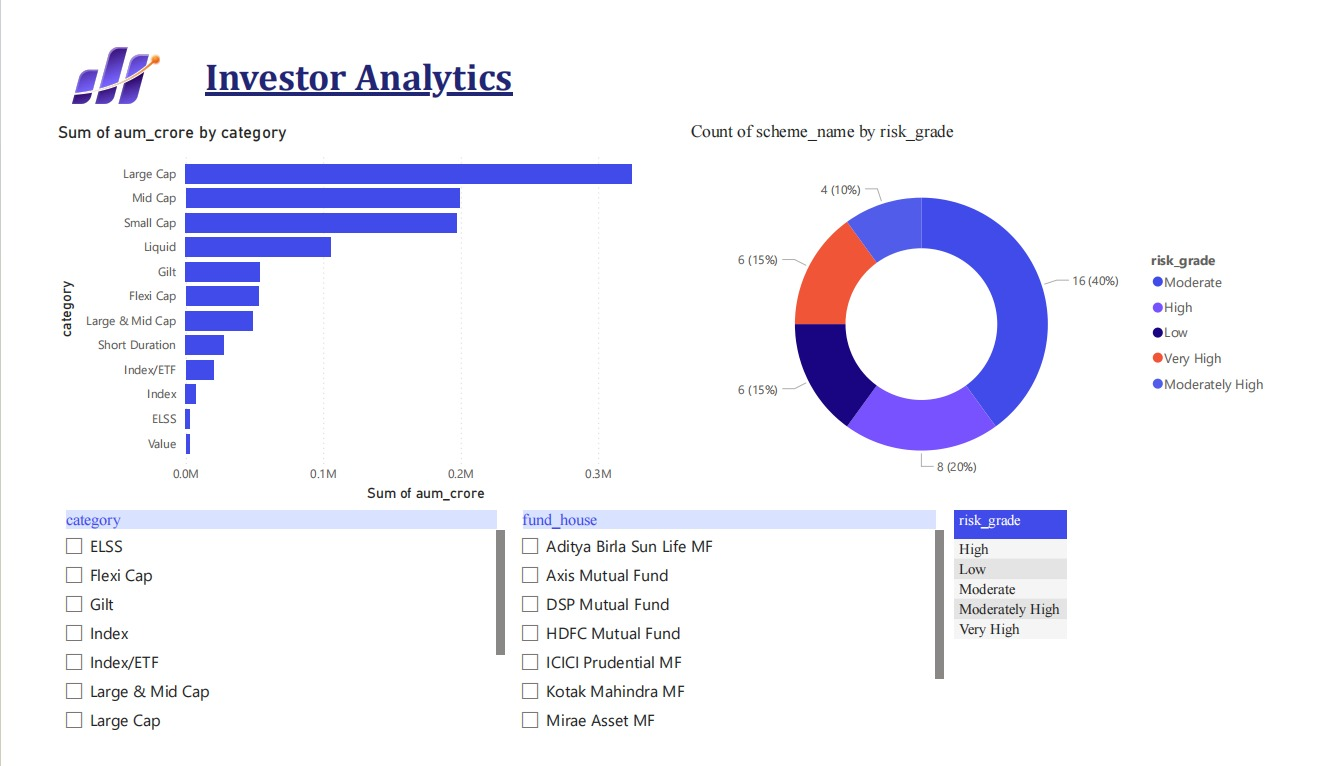

The dashboard page shown, as its layout file describes it:
{"tool":"powerbi","page":{"name":"Investor Analytics","canvas":[1280,720],"ordinal":2},"visuals":[{"type":"clusteredBarChart","fields":{"Category":["clean_scheme_perf.category"],"Y":["Sum(clean_scheme_perf.aum_crore)"]},"box":[28.4,99.2,631.7,382.8],"z":0},{"type":"donutChart","fields":{"Category":["clean_scheme_perf.risk_grade"],"Y":["CountNonNull(clean_scheme_perf.scheme_name)"]},"box":[660.1,99.2,592.3,382.8],"z":1},{"type":"slicer","fields":{"Values":["clean_scheme_perf.category"]},"box":[28.4,482,455.3,237.9],"z":2},{"type":"slicer","fields":{"Values":["clean_scheme_perf.fund_house"]},"box":[483.6,482,437.9,237.9],"z":3},{"type":"tableEx","fields":{"Values":["clean_scheme_perf.risk_grade"]},"box":[921.6,482,330.8,237.9],"z":4},{"type":"image","box":[28.4,0,107.1,104],"z":5},{"type":"textbox","box":[135.5,26.8,1101.2,72.5],"z":6}]}

Visuals, with their boxes in screenshot pixels (x1, y1, x2, y2), scaled from the page's 1280x720 canvas onto the 1329x766 screenshot:
clusteredBarChart - clean_scheme_perf.category x Sum(clean_scheme_perf.aum_crore): crop(29, 106, 685, 513)
donutChart - clean_scheme_perf.risk_grade x CountNonNull(clean_scheme_perf.scheme_name): crop(685, 106, 1300, 513)
slicer - clean_scheme_perf.category: crop(29, 513, 502, 765)
slicer - clean_scheme_perf.fund_house: crop(502, 513, 957, 765)
tableEx - clean_scheme_perf.risk_grade: crop(957, 513, 1300, 765)
image: crop(29, 0, 141, 111)
textbox: crop(141, 29, 1284, 106)
